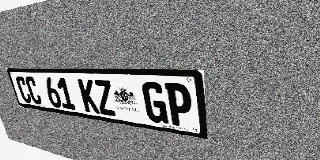1: (55, 78, 76, 110)
6: (43, 77, 63, 108)
C: (24, 76, 43, 105), (15, 76, 33, 104)
G: (141, 82, 168, 124)
K: (77, 79, 100, 114)
P: (164, 83, 193, 128)
Z: (93, 79, 117, 116)
